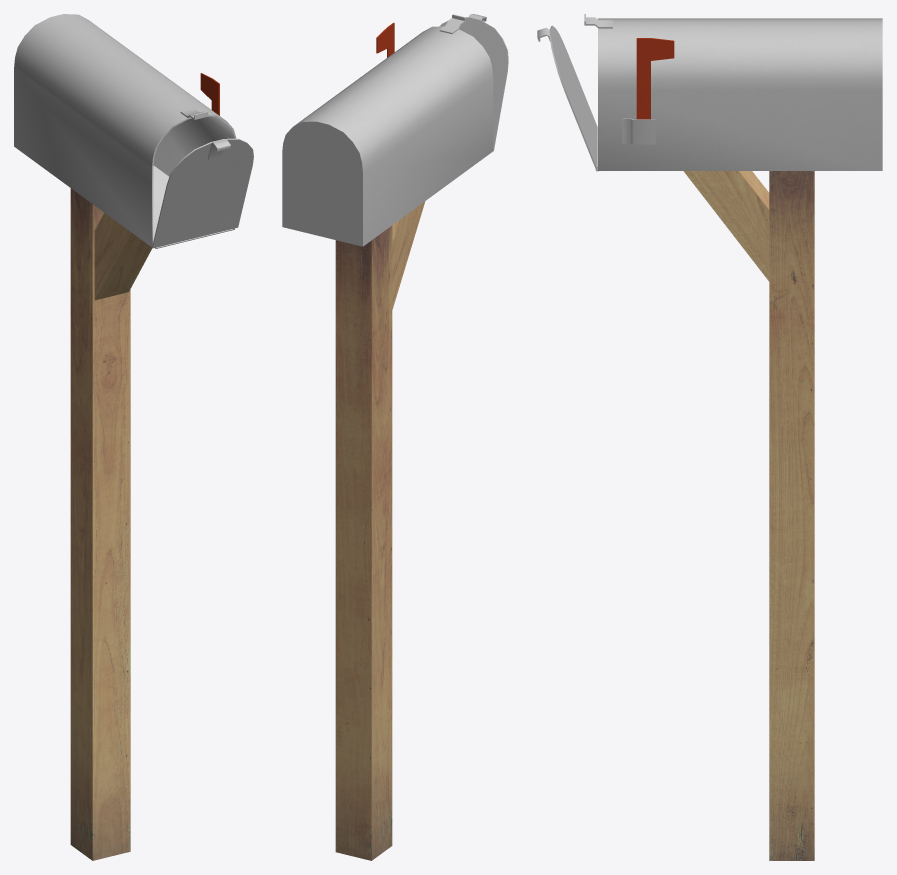
3 views of the same model, side by side, from view 1: azimuth 30°, elevation 25°; view 2: azimuth 150°, elevation 25°; view 3: azimuth 270°, elevation 25° (orthographic). The views are drawn at different scales.
Parts seen in each view (by area): view 1: Mailbox, MailboxFlap, MailboxFlag; view 2: Mailbox, MailboxFlap, MailboxFlag; view 3: Mailbox, MailboxFlap, MailboxFlag.
Part boxes in pixels (box(x1,y1,x2,y2)): Mailbox: box(14, 14, 236, 860); MailboxFlap: box(152, 138, 253, 248); MailboxFlag: box(200, 73, 219, 115); Mailbox: box(282, 14, 493, 860); MailboxFlap: box(440, 14, 508, 151); MailboxFlag: box(376, 22, 394, 57); Mailbox: box(584, 14, 882, 860); MailboxFlap: box(537, 25, 598, 171); MailboxFlag: box(636, 38, 674, 119).
Size of the model in its own units: 0.1407 by 1.23 by 0.4628.
